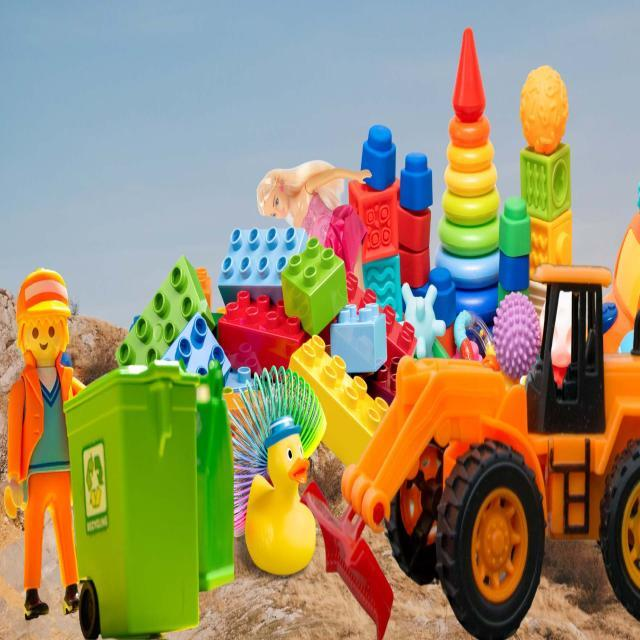hard-toy: (342, 267, 640, 638), (64, 362, 200, 638), (4, 269, 82, 620), (435, 27, 500, 323), (229, 367, 326, 536), (301, 482, 394, 639), (290, 336, 386, 464), (245, 418, 316, 576), (116, 256, 214, 367), (218, 291, 310, 373), (218, 227, 308, 304), (281, 238, 346, 336), (162, 311, 230, 384), (349, 180, 400, 264), (492, 291, 540, 380), (520, 67, 569, 154), (520, 142, 571, 222), (330, 304, 388, 373), (530, 209, 572, 279), (398, 204, 431, 289), (361, 124, 396, 191), (384, 307, 416, 369), (499, 198, 531, 258), (400, 153, 432, 211)
